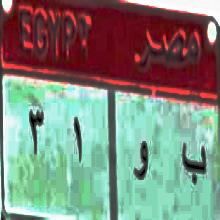1: (72, 112, 85, 176)
3: (27, 100, 45, 158)
baa: (178, 138, 208, 186)
waw: (132, 137, 152, 190)
